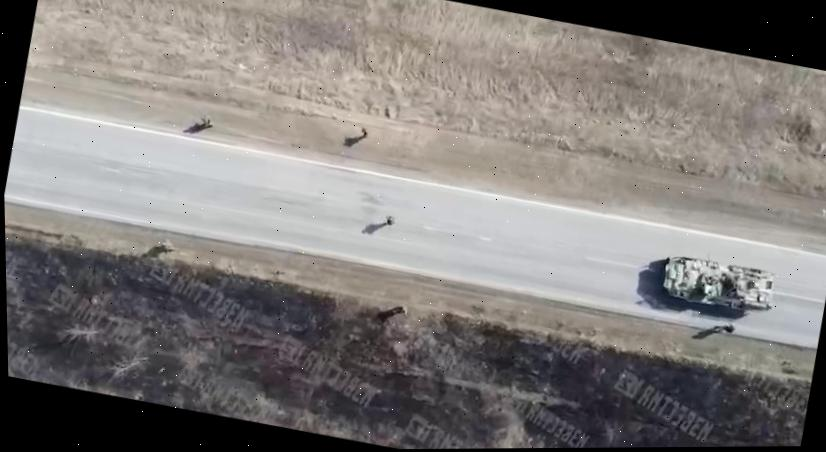person: (159, 237, 175, 253), (198, 114, 215, 128), (721, 322, 735, 334), (383, 213, 395, 225), (357, 124, 368, 137), (396, 304, 407, 315)
tank: (654, 248, 776, 319)
